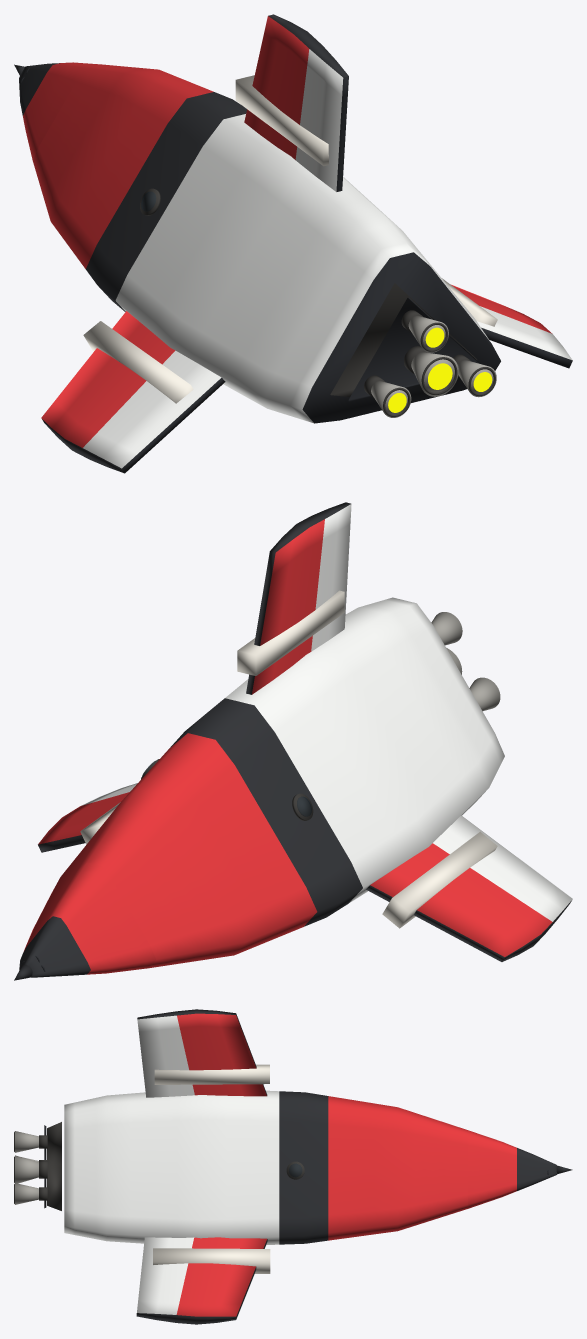
File: Ship_Standard_3.glb
The picture shows the model from 3 angles, top to bottom: view 1: azimuth 30°, elevation 25°; view 2: azimuth 150°, elevation 25°; view 3: azimuth 270°, elevation 25°; orthographic projection. The views are drawn at different scales.
Visible parts, largest first — view 1: Fuselage_RoundedTriangleTriFoldBody, Wing_LowerLeft_TriFoldCornerBladePaintedMesh, Wing_Dorsal_TriFoldCornerBladePaintedMesh, Nose_RoundedTriangleTaperedForwardSection, EngineBlock_AftTriFoldTrimFrame, Wing_LowerRight_TriFoldCornerBladePaintedMesh, WingRootSocket_LowerLeft_IntegratedEmbeddedShoulder, EngineBlock_AftTriangularIntegratedMountPlate, WingRootSocket_Dorsal_IntegratedEmbeddedShoulder, EngineEmitter, EngineBell_Center_BurnishedNozzle, EngineBell_LowerLeft_BurnishedNozzle (+3 smaller); view 2: Fuselage_RoundedTriangleTriFoldBody, Wing_LowerLeft_TriFoldCornerBladePaintedMesh, Wing_Dorsal_TriFoldCornerBladePaintedMesh, Nose_RoundedTriangleTaperedForwardSection, WingRootSocket_LowerLeft_IntegratedEmbeddedShoulder, WingRootSocket_Dorsal_IntegratedEmbeddedShoulder, Wing_LowerRight_TriFoldCornerBladePaintedMesh, EngineBell_LowerLeft_BurnishedNozzle, EngineBell_Dorsal_BurnishedNozzle; view 3: Fuselage_RoundedTriangleTriFoldBody, Wing_Dorsal_TriFoldCornerBladePaintedMesh, Wing_LowerRight_TriFoldCornerBladePaintedMesh, Nose_RoundedTriangleTaperedForwardSection, WingRootSocket_LowerRight_IntegratedEmbeddedShoulder, WingRootSocket_Dorsal_IntegratedEmbeddedShoulder, EngineBlock_AftTriangularIntegratedMountPlate, EngineBell_Center_BurnishedNozzle, EngineBell_LowerRight_BurnishedNozzle, EngineBell_Dorsal_BurnishedNozzle.
Boxes of the visible parts, left/top/right/bottom form: Fuselage_RoundedTriangleTriFoldBody: left=33, top=64, right=500, bottom=423; Wing_LowerLeft_TriFoldCornerBladePaintedMesh: left=41, top=311, right=225, bottom=473; Wing_Dorsal_TriFoldCornerBladePaintedMesh: left=244, top=14, right=348, bottom=191; Nose_RoundedTriangleTaperedForwardSection: left=19, top=62, right=100, bottom=160; EngineBlock_AftTriFoldTrimFrame: left=348, top=297, right=480, bottom=401; Wing_LowerRight_TriFoldCornerBladePaintedMesh: left=451, top=284, right=572, bottom=368; WingRootSocket_LowerLeft_IntegratedEmbeddedShoulder: left=83, top=321, right=193, bottom=403; EngineBlock_AftTriangularIntegratedMountPlate: left=330, top=283, right=477, bottom=396; WingRootSocket_Dorsal_IntegratedEmbeddedShoulder: left=235, top=75, right=328, bottom=166; EngineEmitter: left=388, top=327, right=492, bottom=412; EngineBell_Center_BurnishedNozzle: left=411, top=352, right=458, bottom=396; EngineBell_LowerLeft_BurnishedNozzle: left=371, top=381, right=411, bottom=417; Fuselage_RoundedTriangleTriFoldBody: left=36, top=597, right=504, bottom=968; Wing_LowerLeft_TriFoldCornerBladePaintedMesh: left=366, top=815, right=572, bottom=961; Wing_Dorsal_TriFoldCornerBladePaintedMesh: left=246, top=502, right=351, bottom=694; Nose_RoundedTriangleTaperedForwardSection: left=19, top=862, right=155, bottom=977; WingRootSocket_LowerLeft_IntegratedEmbeddedShoulder: left=382, top=831, right=497, bottom=928; WingRootSocket_Dorsal_IntegratedEmbeddedShoulder: left=237, top=590, right=344, bottom=675; Wing_LowerRight_TriFoldCornerBladePaintedMesh: left=38, top=783, right=137, bottom=852; EngineBell_LowerLeft_BurnishedNozzle: left=469, top=677, right=500, bottom=711; EngineBell_Dorsal_BurnishedNozzle: left=431, top=612, right=462, bottom=645; Fuselage_RoundedTriangleTriFoldBody: left=64, top=1090, right=467, bottom=1244; Wing_Dorsal_TriFoldCornerBladePaintedMesh: left=137, top=1009, right=267, bottom=1097; Wing_LowerRight_TriFoldCornerBladePaintedMesh: left=136, top=1237, right=267, bottom=1324; Nose_RoundedTriangleTaperedForwardSection: left=468, top=1130, right=556, bottom=1208; WingRootSocket_LowerRight_IntegratedEmbeddedShoulder: left=153, top=1248, right=270, bottom=1273; WingRootSocket_Dorsal_IntegratedEmbeddedShoulder: left=154, top=1064, right=269, bottom=1084; EngineBlock_AftTriangularIntegratedMountPlate: left=47, top=1122, right=61, bottom=1210; EngineBell_Center_BurnishedNozzle: left=15, top=1155, right=38, bottom=1183; EngineBell_LowerRight_BurnishedNozzle: left=15, top=1183, right=38, bottom=1204; EngineBell_Dorsal_BurnishedNozzle: left=15, top=1131, right=38, bottom=1152.
Size of the model in its own units: 5.09 by 3.73 by 7.9.
